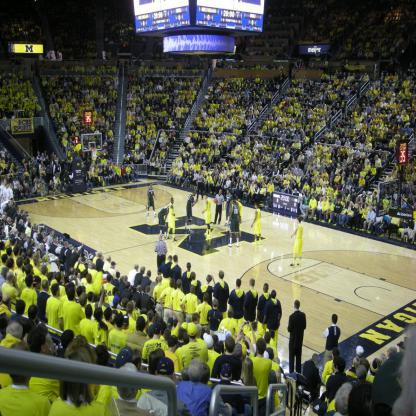face: (43, 338, 50, 355), (124, 317, 129, 324), (196, 317, 201, 324), (39, 282, 43, 289), (333, 361, 336, 370), (37, 312, 40, 320), (400, 347, 404, 353), (58, 289, 61, 296), (388, 350, 391, 357), (38, 260, 41, 266), (133, 301, 136, 307), (390, 212, 393, 218), (410, 214, 413, 220), (52, 232, 55, 237), (26, 236, 29, 241), (43, 257, 46, 262), (255, 159, 258, 164), (406, 132, 409, 137), (410, 183, 413, 188), (46, 238, 49, 242), (43, 245, 45, 251), (39, 254, 42, 258), (91, 264, 93, 270), (261, 162, 264, 166), (339, 200, 342, 204), (373, 135, 376, 139), (380, 150, 383, 154), (376, 156, 379, 160), (344, 165, 346, 171), (344, 202, 347, 206), (343, 198, 345, 204), (407, 125, 410, 129), (396, 138, 399, 142), (411, 166, 414, 170), (381, 206, 384, 210), (20, 185, 22, 190), (26, 183, 28, 188), (58, 238, 60, 243), (32, 240, 34, 245), (35, 243, 37, 248), (12, 251, 14, 256), (43, 230, 45, 235), (4, 245, 6, 250), (111, 258, 113, 263), (114, 265, 116, 270), (68, 244, 70, 249), (256, 326, 258, 331), (172, 199, 174, 204), (137, 139, 139, 144), (332, 172, 334, 177), (311, 166, 313, 171), (369, 127, 371, 132), (369, 194, 371, 199), (363, 192, 365, 197), (361, 199, 363, 204), (413, 161, 415, 166), (350, 159, 352, 164), (350, 107, 352, 112), (409, 102, 411, 107), (410, 78, 412, 83), (15, 232, 18, 235), (10, 243, 13, 246), (72, 247, 75, 250), (391, 141, 394, 144), (38, 187, 40, 191), (10, 203, 12, 207), (19, 209, 21, 213), (23, 212, 25, 216), (22, 222, 24, 226), (36, 226, 38, 230), (8, 185, 10, 189), (56, 239, 58, 243), (21, 234, 23, 238), (16, 241, 18, 245), (60, 265, 62, 269), (5, 216, 7, 220), (5, 223, 7, 227), (103, 256, 105, 260), (205, 196, 207, 200), (233, 201, 235, 205), (255, 205, 257, 209), (98, 166, 100, 170), (84, 153, 86, 157), (162, 158, 164, 162), (324, 156, 326, 160), (333, 161, 335, 165), (331, 179, 333, 183), (291, 186, 293, 190), (307, 192, 309, 196), (312, 196, 314, 200), (267, 118, 269, 122), (146, 151, 148, 155), (331, 183, 333, 187), (337, 186, 339, 190), (390, 130, 392, 134), (375, 149, 377, 153), (390, 173, 392, 177), (366, 156, 368, 160), (363, 168, 365, 172), (357, 176, 359, 180), (370, 207, 372, 211), (365, 205, 367, 209), (351, 203, 353, 207), (414, 170, 416, 174), (390, 188, 392, 192), (385, 188, 387, 192), (406, 184, 408, 188), (357, 205, 359, 209), (413, 119, 415, 123), (405, 113, 407, 117), (404, 220, 406, 224), (348, 116, 350, 120), (338, 104, 340, 108), (293, 124, 295, 128), (402, 85, 404, 89), (58, 159, 60, 162), (55, 156, 57, 159), (57, 161, 59, 164), (57, 174, 59, 177), (51, 182, 53, 185), (47, 157, 49, 160), (40, 182, 42, 185), (36, 186, 38, 189), (10, 184, 12, 187), (10, 171, 12, 174), (17, 166, 19, 169), (26, 164, 28, 167), (12, 200, 14, 203), (10, 220, 12, 223), (27, 213, 29, 216), (29, 219, 31, 222), (31, 225, 33, 228), (12, 187, 14, 190), (18, 206, 20, 209), (80, 254, 82, 257), (81, 260, 83, 263), (70, 161, 72, 164), (220, 192, 222, 195), (92, 164, 94, 167), (126, 158, 128, 161), (112, 136, 114, 139), (131, 153, 133, 156), (200, 173, 202, 176), (204, 160, 206, 163), (210, 154, 212, 157), (239, 162, 241, 165), (224, 161, 226, 164), (259, 153, 261, 156), (282, 179, 284, 182), (271, 181, 273, 184), (256, 186, 258, 189), (242, 176, 244, 179), (268, 196, 270, 199), (210, 136, 212, 139), (297, 132, 299, 135), (340, 147, 342, 150), (315, 144, 317, 147), (301, 153, 303, 156), (329, 149, 331, 152), (302, 160, 304, 163), (315, 162, 317, 165), (328, 163, 330, 166), (306, 182, 308, 185), (313, 183, 315, 186), (298, 167, 300, 170), (293, 162, 295, 165), (287, 186, 289, 189), (246, 136, 248, 139), (127, 142, 129, 145), (146, 143, 148, 146), (143, 133, 145, 136), (255, 104, 257, 107), (244, 119, 246, 122), (325, 199, 327, 202), (320, 199, 322, 202), (330, 202, 332, 205), (380, 122, 382, 125), (374, 123, 376, 126), (379, 134, 381, 137), (380, 143, 382, 146), (384, 179, 386, 182), (377, 187, 379, 190), (374, 193, 376, 196), (368, 142, 370, 145), (351, 147, 353, 150), (368, 163, 370, 166), (362, 156, 364, 159), (350, 155, 352, 158), (361, 162, 363, 165), (354, 167, 356, 170), (350, 175, 352, 178), (351, 166, 353, 169), (352, 184, 354, 187), (349, 197, 351, 200), (393, 137, 395, 140), (411, 156, 413, 159), (338, 174, 340, 177), (403, 184, 405, 187), (404, 195, 406, 198), (396, 184, 398, 187), (402, 201, 404, 204), (412, 114, 414, 117), (395, 120, 397, 123), (389, 111, 391, 114), (396, 201, 398, 204), (363, 128, 365, 131), (365, 117, 367, 120), (364, 105, 366, 108), (368, 104, 370, 107), (389, 101, 391, 104), (373, 105, 375, 108), (364, 93, 366, 96), (175, 118, 177, 121), (172, 117, 174, 120), (343, 103, 345, 106), (309, 123, 311, 126), (300, 121, 302, 124), (276, 114, 278, 117), (400, 113, 402, 116), (402, 92, 404, 95), (411, 86, 413, 89), (38, 153, 40, 155), (42, 161, 44, 163), (24, 160, 26, 162), (14, 206, 16, 208), (5, 214, 7, 216), (102, 124, 104, 126), (103, 157, 105, 159), (91, 169, 93, 171), (105, 143, 107, 145), (98, 169, 100, 171), (153, 158, 155, 160), (160, 158, 162, 160), (193, 163, 195, 165), (191, 156, 193, 158), (186, 161, 188, 163), (190, 173, 192, 175), (242, 144, 244, 146), (242, 169, 244, 171), (283, 146, 285, 148), (277, 151, 279, 153), (274, 153, 276, 155), (268, 167, 270, 169), (263, 186, 265, 188), (263, 181, 265, 183), (235, 195, 237, 197), (254, 173, 256, 175), (156, 153, 157, 157), (213, 120, 215, 122), (333, 151, 335, 153), (315, 150, 317, 152), (341, 153, 343, 155), (344, 161, 346, 163), (308, 175, 310, 177), (320, 175, 321, 179), (294, 166, 296, 168), (290, 164, 292, 166), (306, 191, 308, 193), (263, 141, 265, 143), (256, 143, 258, 145), (205, 169, 207, 171), (334, 125, 336, 127), (339, 125, 341, 127), (239, 113, 240, 117), (271, 115, 273, 117), (235, 113, 237, 115), (322, 193, 323, 197), (361, 135, 363, 137), (364, 123, 366, 125), (345, 147, 347, 149), (357, 148, 359, 150), (373, 165, 375, 167), (348, 185, 350, 187), (345, 189, 347, 191), (381, 201, 383, 203), (365, 110, 366, 114), (359, 121, 361, 123), (394, 112, 396, 114), (405, 103, 407, 105), (393, 96, 395, 98), (369, 91, 371, 93), (389, 91, 391, 93), (360, 110, 361, 114), (290, 140, 292, 142), (304, 122, 306, 124), (307, 107, 309, 109), (293, 117, 294, 121), (338, 121, 340, 123), (407, 78, 409, 80), (382, 75, 384, 77), (43, 154, 44, 157), (43, 181, 44, 184), (34, 167, 35, 170), (37, 160, 38, 163), (34, 158, 35, 161), (24, 169, 25, 172), (17, 175, 18, 178), (9, 154, 10, 157), (10, 161, 11, 164), (3, 230, 4, 233), (2, 222, 3, 225), (4, 229, 5, 232), (107, 153, 108, 156), (152, 184, 153, 187), (195, 194, 196, 197), (228, 191, 229, 194), (110, 157, 111, 160), (105, 168, 106, 171), (117, 163, 118, 166), (110, 166, 111, 169), (104, 147, 105, 150), (128, 140, 129, 143), (133, 163, 134, 166), (158, 149, 159, 152), (163, 149, 164, 152), (145, 128, 146, 131), (164, 144, 165, 147), (167, 135, 168, 138), (180, 155, 181, 158), (176, 166, 177, 169), (182, 168, 183, 171), (186, 169, 187, 172), (189, 169, 190, 172), (205, 174, 206, 177), (218, 171, 219, 174), (209, 175, 210, 178), (201, 158, 202, 161), (207, 142, 208, 145), (233, 179, 234, 182), (239, 180, 240, 183), (228, 154, 229, 157), (272, 154, 273, 157), (265, 161, 266, 164), (276, 167, 277, 170), (292, 179, 293, 182), (288, 179, 289, 182), (253, 183, 254, 186), (261, 173, 262, 176), (237, 168, 238, 171), (188, 135, 189, 138), (188, 145, 189, 148), (229, 134, 230, 137), (204, 136, 205, 139), (231, 122, 232, 125), (326, 144, 327, 147), (320, 143, 321, 146), (308, 148, 309, 151), (306, 155, 307, 158), (322, 149, 323, 152), (339, 158, 340, 161), (298, 164, 299, 167), (306, 167, 307, 170), (316, 157, 317, 160), (325, 171, 326, 174), (327, 179, 328, 182), (344, 173, 345, 176), (300, 173, 301, 176), (303, 174, 304, 177), (319, 183, 320, 186), (316, 177, 317, 180), (294, 181, 295, 184), (274, 134, 275, 137), (149, 129, 150, 132), (214, 170, 215, 173), (232, 155, 233, 158), (228, 167, 229, 170), (254, 132, 255, 135), (248, 108, 249, 111), (312, 156, 313, 159), (326, 193, 327, 196), (332, 196, 333, 199), (370, 134, 371, 137), (385, 136, 386, 139), (359, 140, 360, 143), (387, 145, 388, 148), (365, 141, 366, 144), (354, 140, 355, 143), (363, 149, 364, 152), (355, 154, 356, 157), (357, 199, 358, 202), (398, 131, 399, 134), (394, 167, 395, 170), (410, 176, 411, 179), (410, 195, 411, 198), (403, 132, 404, 135), (360, 115, 361, 118), (376, 117, 377, 120), (369, 124, 370, 127), (365, 99, 366, 102), (373, 85, 374, 88), (179, 109, 180, 112), (357, 107, 358, 110), (354, 109, 355, 112), (345, 92, 346, 95), (280, 125, 281, 128), (284, 110, 285, 113), (295, 118, 296, 121), (300, 117, 301, 120), (312, 123, 313, 126), (304, 107, 305, 110), (288, 106, 289, 109), (330, 108, 331, 111), (323, 113, 324, 116), (388, 73, 389, 76), (54, 155, 55, 157), (27, 169, 28, 171), (13, 161, 14, 163), (78, 131, 79, 133), (89, 154, 90, 156), (72, 150, 73, 152), (66, 138, 67, 140), (64, 126, 65, 128), (60, 127, 61, 129), (73, 135, 74, 137), (71, 139, 72, 141), (99, 125, 100, 127), (110, 148, 111, 150), (98, 159, 99, 161), (101, 179, 102, 181), (105, 165, 106, 167), (112, 164, 113, 166), (119, 167, 120, 169), (123, 166, 124, 168), (129, 166, 130, 168), (131, 161, 132, 163), (133, 140, 134, 142), (138, 153, 139, 155), (128, 152, 129, 154), (143, 138, 144, 140), (152, 144, 153, 146), (146, 158, 147, 160), (143, 151, 144, 153), (163, 139, 164, 141), (161, 136, 162, 138), (174, 130, 175, 132), (170, 136, 171, 138), (169, 131, 170, 133), (163, 131, 164, 133), (176, 161, 177, 163), (195, 172, 196, 174), (197, 163, 198, 165), (196, 157, 197, 159), (217, 176, 218, 178), (218, 149, 219, 151), (212, 149, 213, 151), (203, 148, 204, 150), (194, 148, 195, 150), (183, 146, 184, 148), (186, 151, 187, 153), (213, 143, 214, 145), (217, 144, 218, 146), (202, 152, 203, 154), (224, 176, 225, 178), (228, 178, 229, 180), (235, 162, 236, 164), (230, 163, 231, 165), (223, 168, 224, 170), (237, 146, 238, 148), (222, 143, 223, 145), (240, 155, 241, 157), (243, 158, 244, 160), (247, 157, 248, 159), (248, 166, 249, 168), (245, 170, 246, 172), (288, 146, 289, 148), (287, 151, 288, 153), (284, 151, 285, 153), (268, 155, 269, 157), (263, 154, 264, 156), (246, 148, 247, 150), (270, 162, 271, 164), (272, 163, 273, 165), (289, 171, 290, 173), (285, 170, 286, 172), (279, 177, 280, 179), (251, 178, 252, 180), (246, 185, 247, 187), (246, 182, 247, 184), (246, 178, 247, 180), (191, 141, 192, 143), (190, 131, 191, 133), (170, 119, 171, 121), (233, 167, 234, 169), (237, 152, 238, 154), (215, 138, 216, 140), (220, 138, 221, 140), (224, 138, 225, 140), (228, 140, 229, 142), (211, 126, 212, 128), (208, 147, 209, 149), (229, 127, 230, 129), (207, 116, 208, 118), (235, 123, 236, 125), (240, 123, 241, 125), (202, 143, 203, 145), (194, 136, 195, 138), (173, 124, 174, 126), (312, 130, 313, 132), (305, 136, 306, 138), (299, 142, 300, 144), (323, 136, 324, 138), (338, 138, 339, 140), (344, 139, 345, 141), (335, 145, 336, 147), (319, 149, 320, 151), (323, 163, 324, 165), (339, 167, 340, 169), (316, 169, 317, 171), (324, 185, 325, 187), (294, 174, 295, 176), (296, 191, 297, 193), (261, 142, 262, 144), (248, 141, 249, 143), (246, 150, 247, 152), (259, 129, 260, 131), (281, 132, 282, 134), (284, 131, 285, 133), (289, 132, 290, 134), (137, 158, 138, 160), (217, 165, 218, 167), (229, 175, 230, 177), (233, 174, 234, 176), (348, 140, 349, 142), (323, 119, 324, 121), (319, 121, 320, 123), (253, 142, 254, 144), (263, 137, 264, 139), (265, 125, 266, 127), (243, 113, 244, 115), (249, 118, 250, 120), (240, 109, 241, 111), (257, 109, 258, 111), (249, 104, 250, 106), (386, 127, 387, 129), (368, 149, 369, 151), (376, 143, 377, 145), (352, 129, 353, 131), (363, 177, 364, 179), (382, 191, 383, 193), (402, 120, 403, 122), (385, 112, 386, 114), (395, 108, 396, 110), (380, 117, 381, 119), (345, 129, 346, 131), (357, 132, 358, 134), (369, 118, 370, 120), (354, 116, 355, 118), (370, 111, 371, 113), (399, 102, 400, 104), (394, 101, 395, 103), (385, 99, 386, 101), (398, 97, 399, 99), (407, 97, 408, 99), (384, 107, 385, 109), (374, 96, 375, 98), (380, 102, 381, 104), (378, 95, 379, 97), (383, 89, 384, 91), (379, 91, 380, 93), (180, 120, 181, 122), (347, 92, 348, 94), (285, 139, 286, 141), (300, 128, 301, 130), (297, 129, 299, 130), (279, 116, 280, 118), (287, 117, 288, 119), (281, 110, 282, 112), (310, 113, 311, 115), (290, 105, 291, 107), (334, 109, 335, 111), (324, 103, 325, 105), (199, 112, 200, 114), (212, 116, 213, 118), (208, 126, 209, 128), (397, 74, 398, 76), (404, 101, 405, 103), (74, 125, 75, 126), (93, 125, 94, 126), (138, 133, 139, 134), (133, 135, 134, 136), (198, 148, 199, 149), (249, 154, 250, 155), (223, 133, 224, 134), (203, 125, 204, 126), (308, 130, 309, 131), (345, 116, 346, 117), (187, 107, 188, 108), (271, 120, 272, 121), (284, 122, 285, 123), (324, 109, 325, 110)
